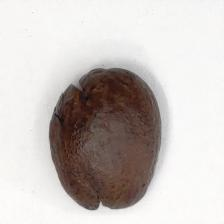NG: (49, 75, 96, 130), (87, 187, 123, 212)
